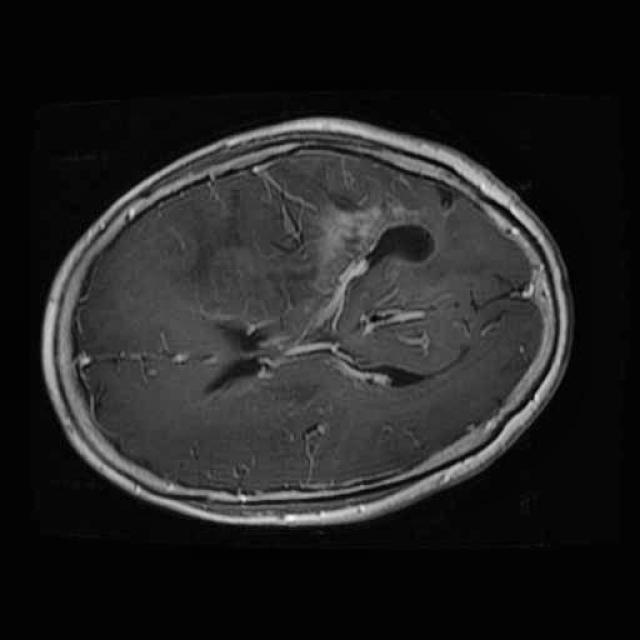Tumor: (304, 181, 458, 335)
